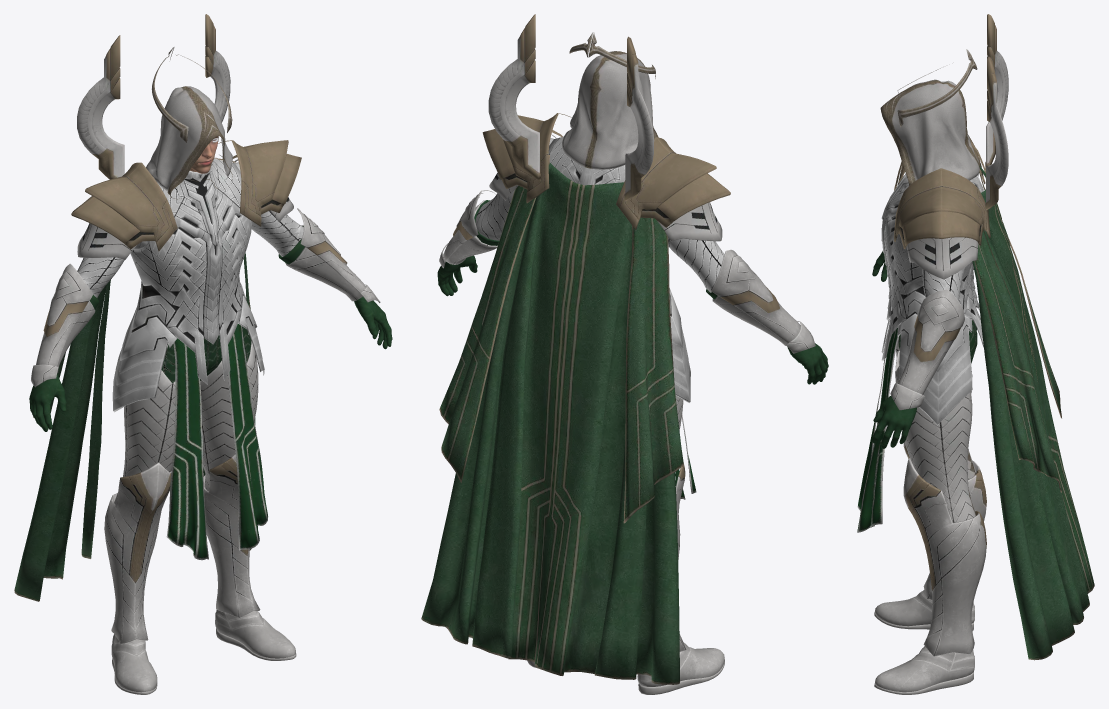
3 views of the same model, side by side, from view 1: azimuth 30°, elevation 25°; view 2: azimuth 150°, elevation 25°; view 3: azimuth 270°, elevation 25° (orthographic). The views are drawn at different scales.
Visible parts, largest first — view 1: GM_DebGuard_01_Body, GM_DebGuard_01_Boots, GM_DebGuard_01_Shoulder, GM_DebGuard_01_Cape, GM_DebGuard_01_Glove, GM_DebGuard_01_Pants, GM_DebGuard_01_Helmet; view 2: GM_DebGuard_01_Cape, GM_DebGuard_01_Shoulder, GM_DebGuard_01_Glove, GM_DebGuard_01_Helmet, GM_DebGuard_01_Body, GM_DebGuard_01_Boots; view 3: GM_DebGuard_01_Cape, GM_DebGuard_01_Boots, GM_DebGuard_01_Body, GM_DebGuard_01_Shoulder, GM_DebGuard_01_Helmet, GM_DebGuard_01_Glove, GM_DebGuard_01_Pants.
Part boxes in pixels (bbox=[...]): GM_DebGuard_01_Body: bbox=[77, 158, 303, 560]; GM_DebGuard_01_Boots: bbox=[104, 454, 296, 694]; GM_DebGuard_01_Shoulder: bbox=[71, 14, 301, 259]; GM_DebGuard_01_Cape: bbox=[14, 158, 257, 601]; GM_DebGuard_01_Glove: bbox=[29, 208, 392, 431]; GM_DebGuard_01_Pants: bbox=[114, 326, 258, 504]; GM_DebGuard_01_Helmet: bbox=[146, 47, 232, 199]; GM_DebGuard_01_Cape: bbox=[421, 155, 683, 684]; GM_DebGuard_01_Shoulder: bbox=[482, 14, 730, 241]; GM_DebGuard_01_Glove: bbox=[437, 190, 828, 384]; GM_DebGuard_01_Helmet: bbox=[562, 32, 658, 169]; GM_DebGuard_01_Body: bbox=[475, 136, 724, 499]; GM_DebGuard_01_Boots: bbox=[527, 463, 724, 694]; GM_DebGuard_01_Cape: bbox=[972, 166, 1094, 660]; GM_DebGuard_01_Boots: bbox=[874, 442, 986, 694]; GM_DebGuard_01_Body: bbox=[857, 173, 983, 532]; GM_DebGuard_01_Shoulder: bbox=[894, 14, 1008, 279]; GM_DebGuard_01_Helmet: bbox=[880, 49, 979, 185]; GM_DebGuard_01_Glove: bbox=[872, 251, 964, 448]; GM_DebGuard_01_Pants: bbox=[895, 320, 977, 522].
Size of the model in its own units: 1.25 by 2.07 by 0.72.
10 materials, 9 textured.
